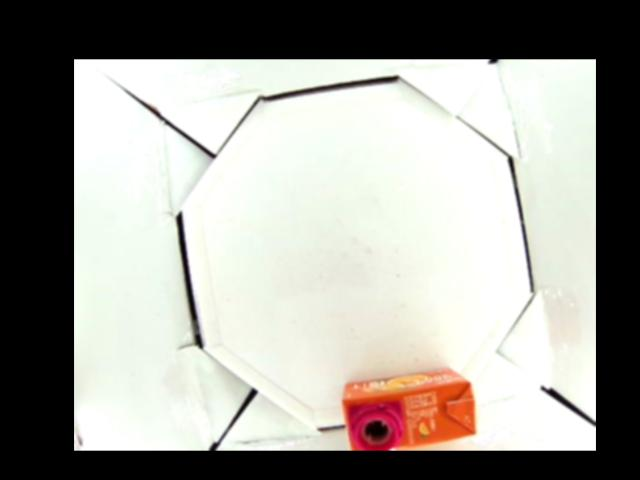Bottle: (341, 366, 481, 450)
